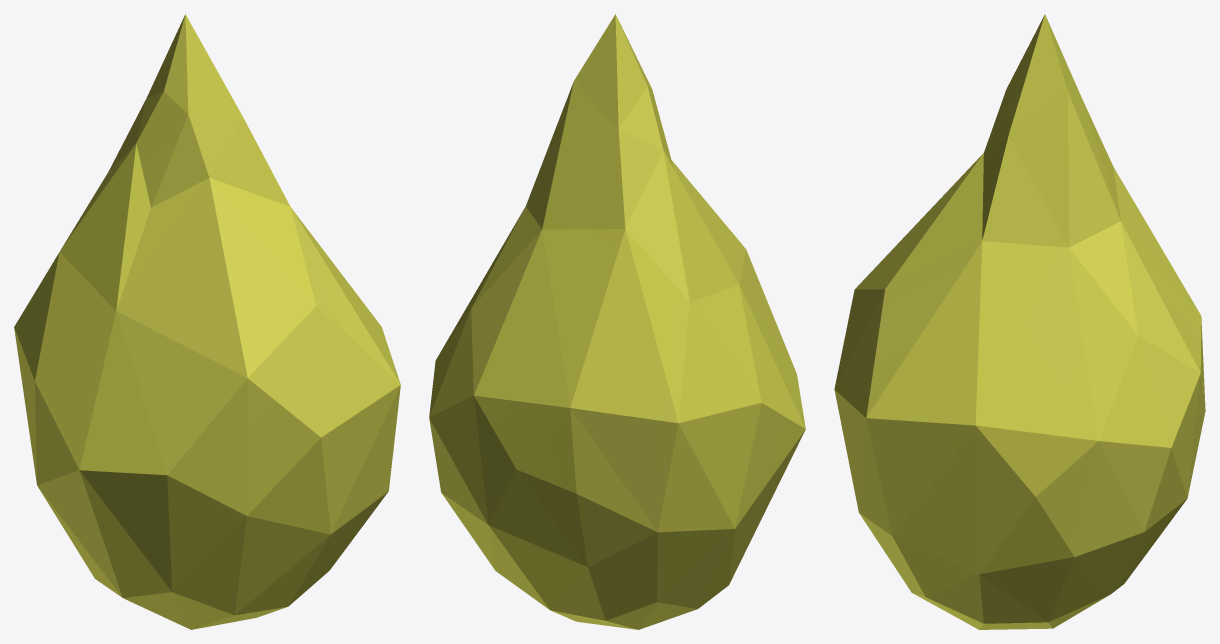
The model's file is bush5.fbx.
The picture shows the model from 3 angles, left to right: view 1: azimuth 30°, elevation 25°; view 2: azimuth 150°, elevation 25°; view 3: azimuth 270°, elevation 25°; orthographic projection. The views are drawn at different scales.
Visible parts, largest first — view 1: Roundcube.006; view 2: Roundcube.006; view 3: Roundcube.006.
Boxes of the visible parts, <box> form: Roundcube.006: <box>14,14,400,629</box>; Roundcube.006: <box>429,14,805,629</box>; Roundcube.006: <box>834,14,1205,629</box>.
Size of the model in its own units: 254 by 465 by 262.
